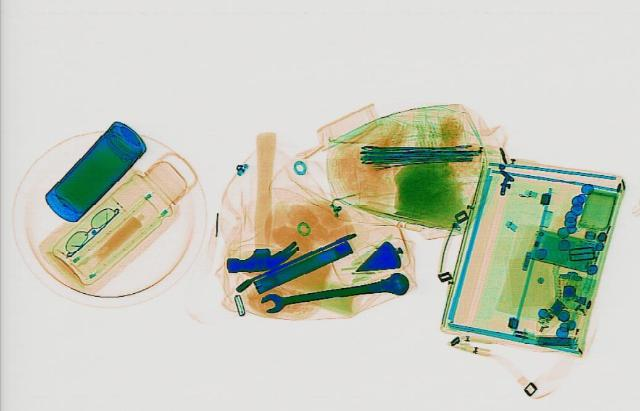Wrench: (256, 270, 414, 315)
